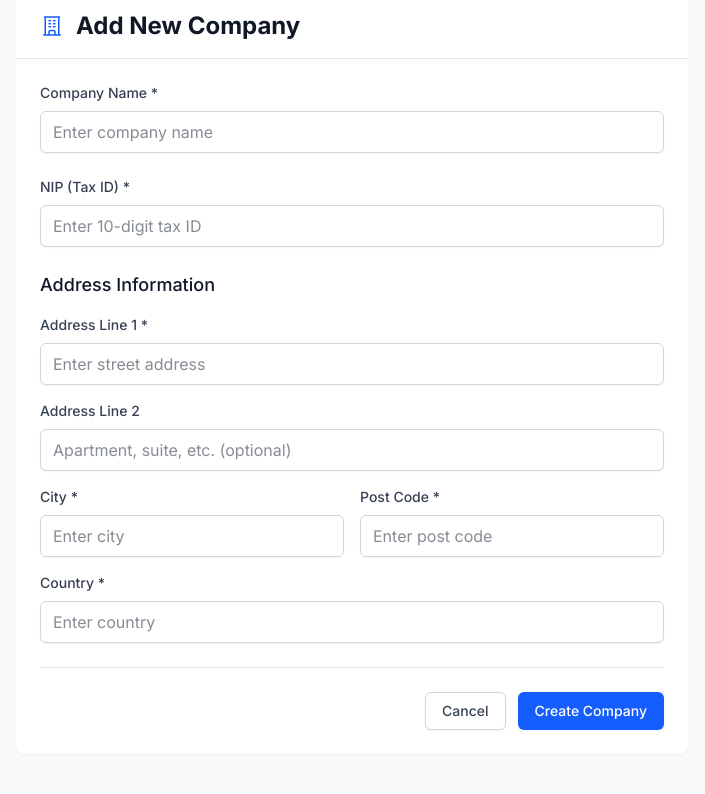
Test: CompanyForm › lists every missing field
The image size is (705, 794).
Click the button "Create Company" at [591, 711], box [518,692,664,730]
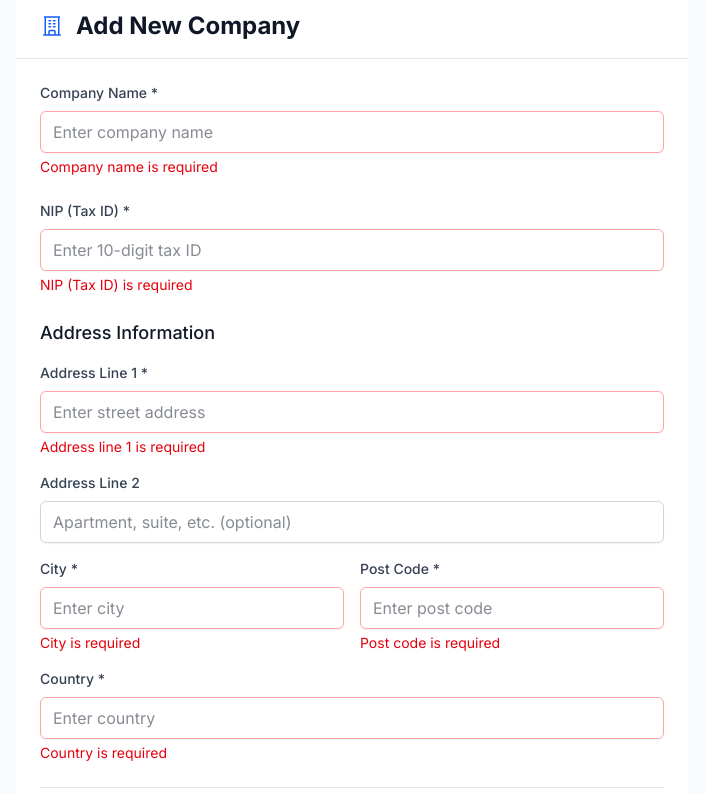
Expected: the text "Company name is required" is shown, [40,158,218,175]
Expected: the text "Post code is required" is shown, [360,634,500,651]
Expected: the text "Address line 1 is required" is shown, [40,438,205,455]
